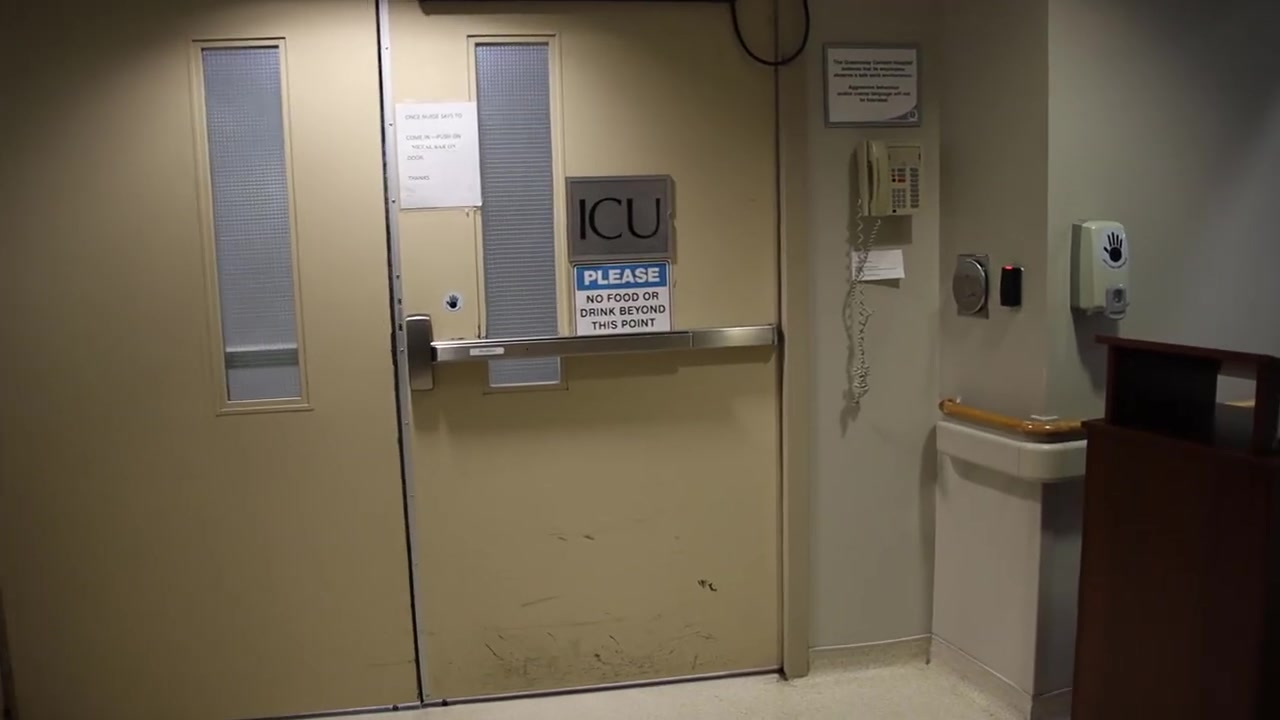counter: (1071, 340, 1280, 720)
dispenser: (1071, 218, 1130, 321)
hallway_assist_bar: (937, 397, 1088, 482)
press_to_open: (951, 247, 990, 318)
push_latch: (430, 321, 776, 370)
telephone: (843, 138, 925, 408)
